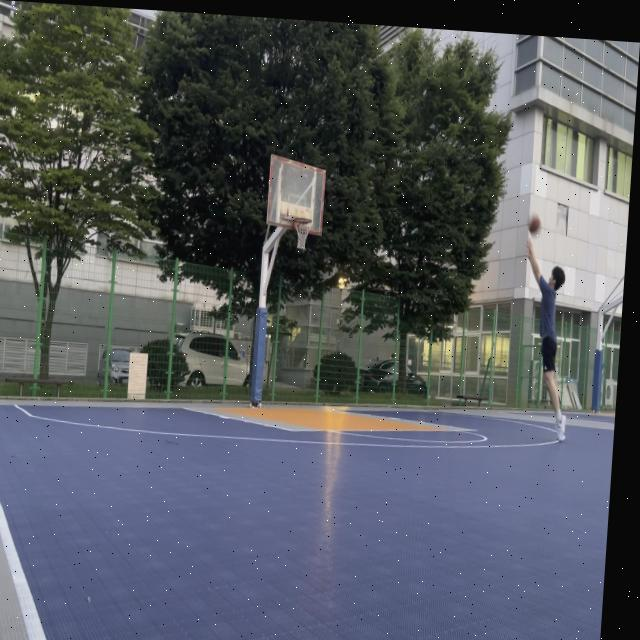basketball: (527, 213, 543, 238)
hoop: (291, 217, 312, 252)
